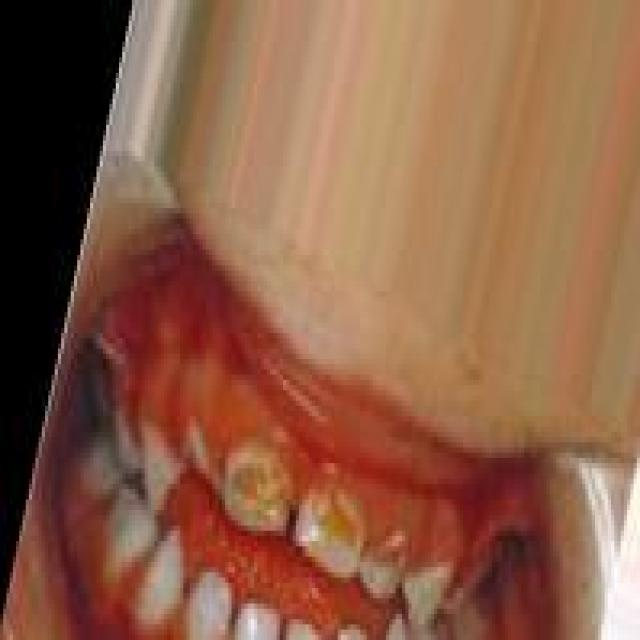caries: (222, 442, 298, 543), (298, 471, 364, 576), (364, 521, 414, 600)
